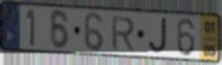1: (25, 8, 36, 49)
6: (49, 8, 72, 51), (83, 10, 106, 53), (176, 15, 196, 58)
J: (147, 17, 169, 55)
R: (110, 16, 136, 53)
